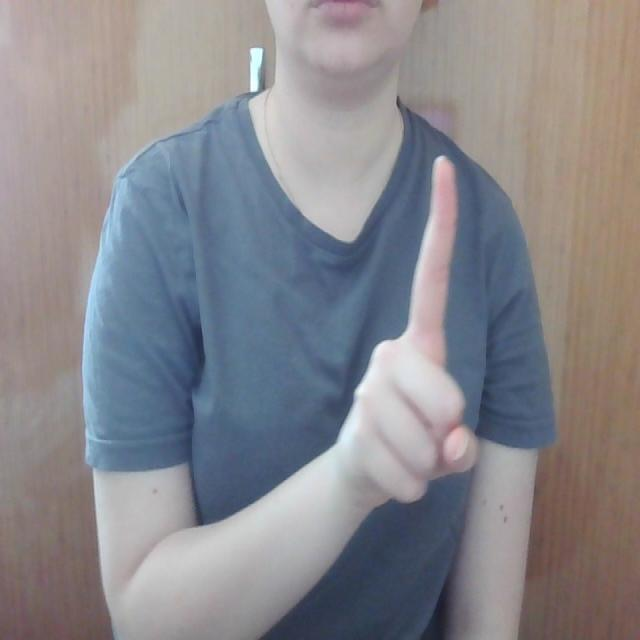Hayir: (337, 139, 493, 542)
